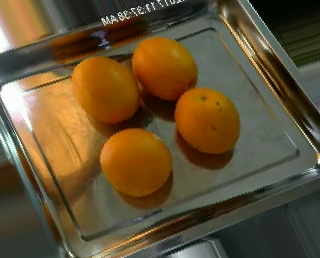Orange: (100, 127, 171, 198), (70, 54, 137, 121), (174, 86, 241, 153), (133, 35, 199, 102)
